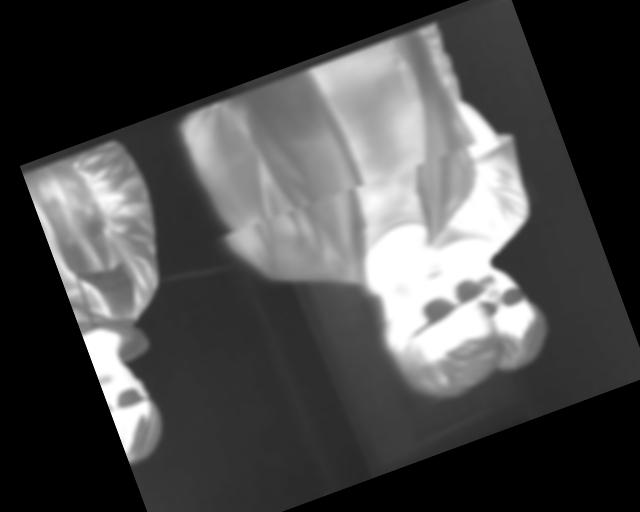face: (358, 233, 510, 415), (464, 252, 560, 377), (93, 348, 174, 466)
